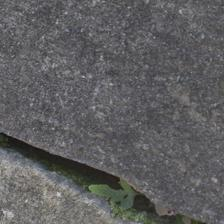Crack: (6, 129, 162, 221)
